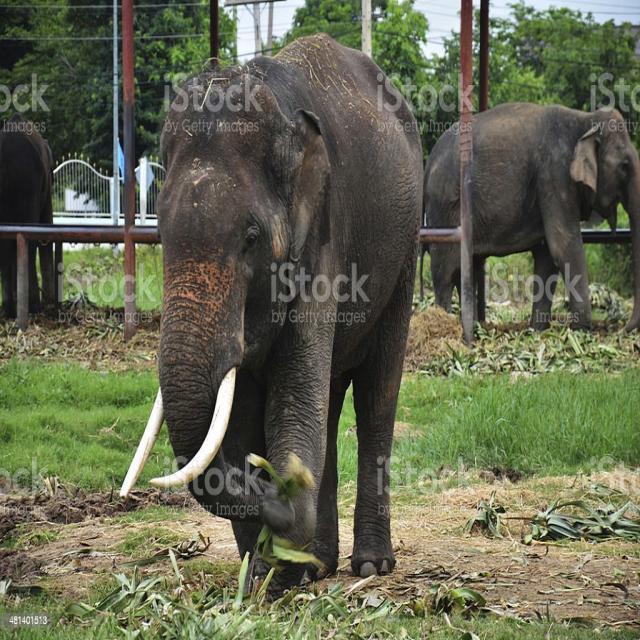Elephant: (122, 35, 424, 608), (420, 99, 640, 328)
